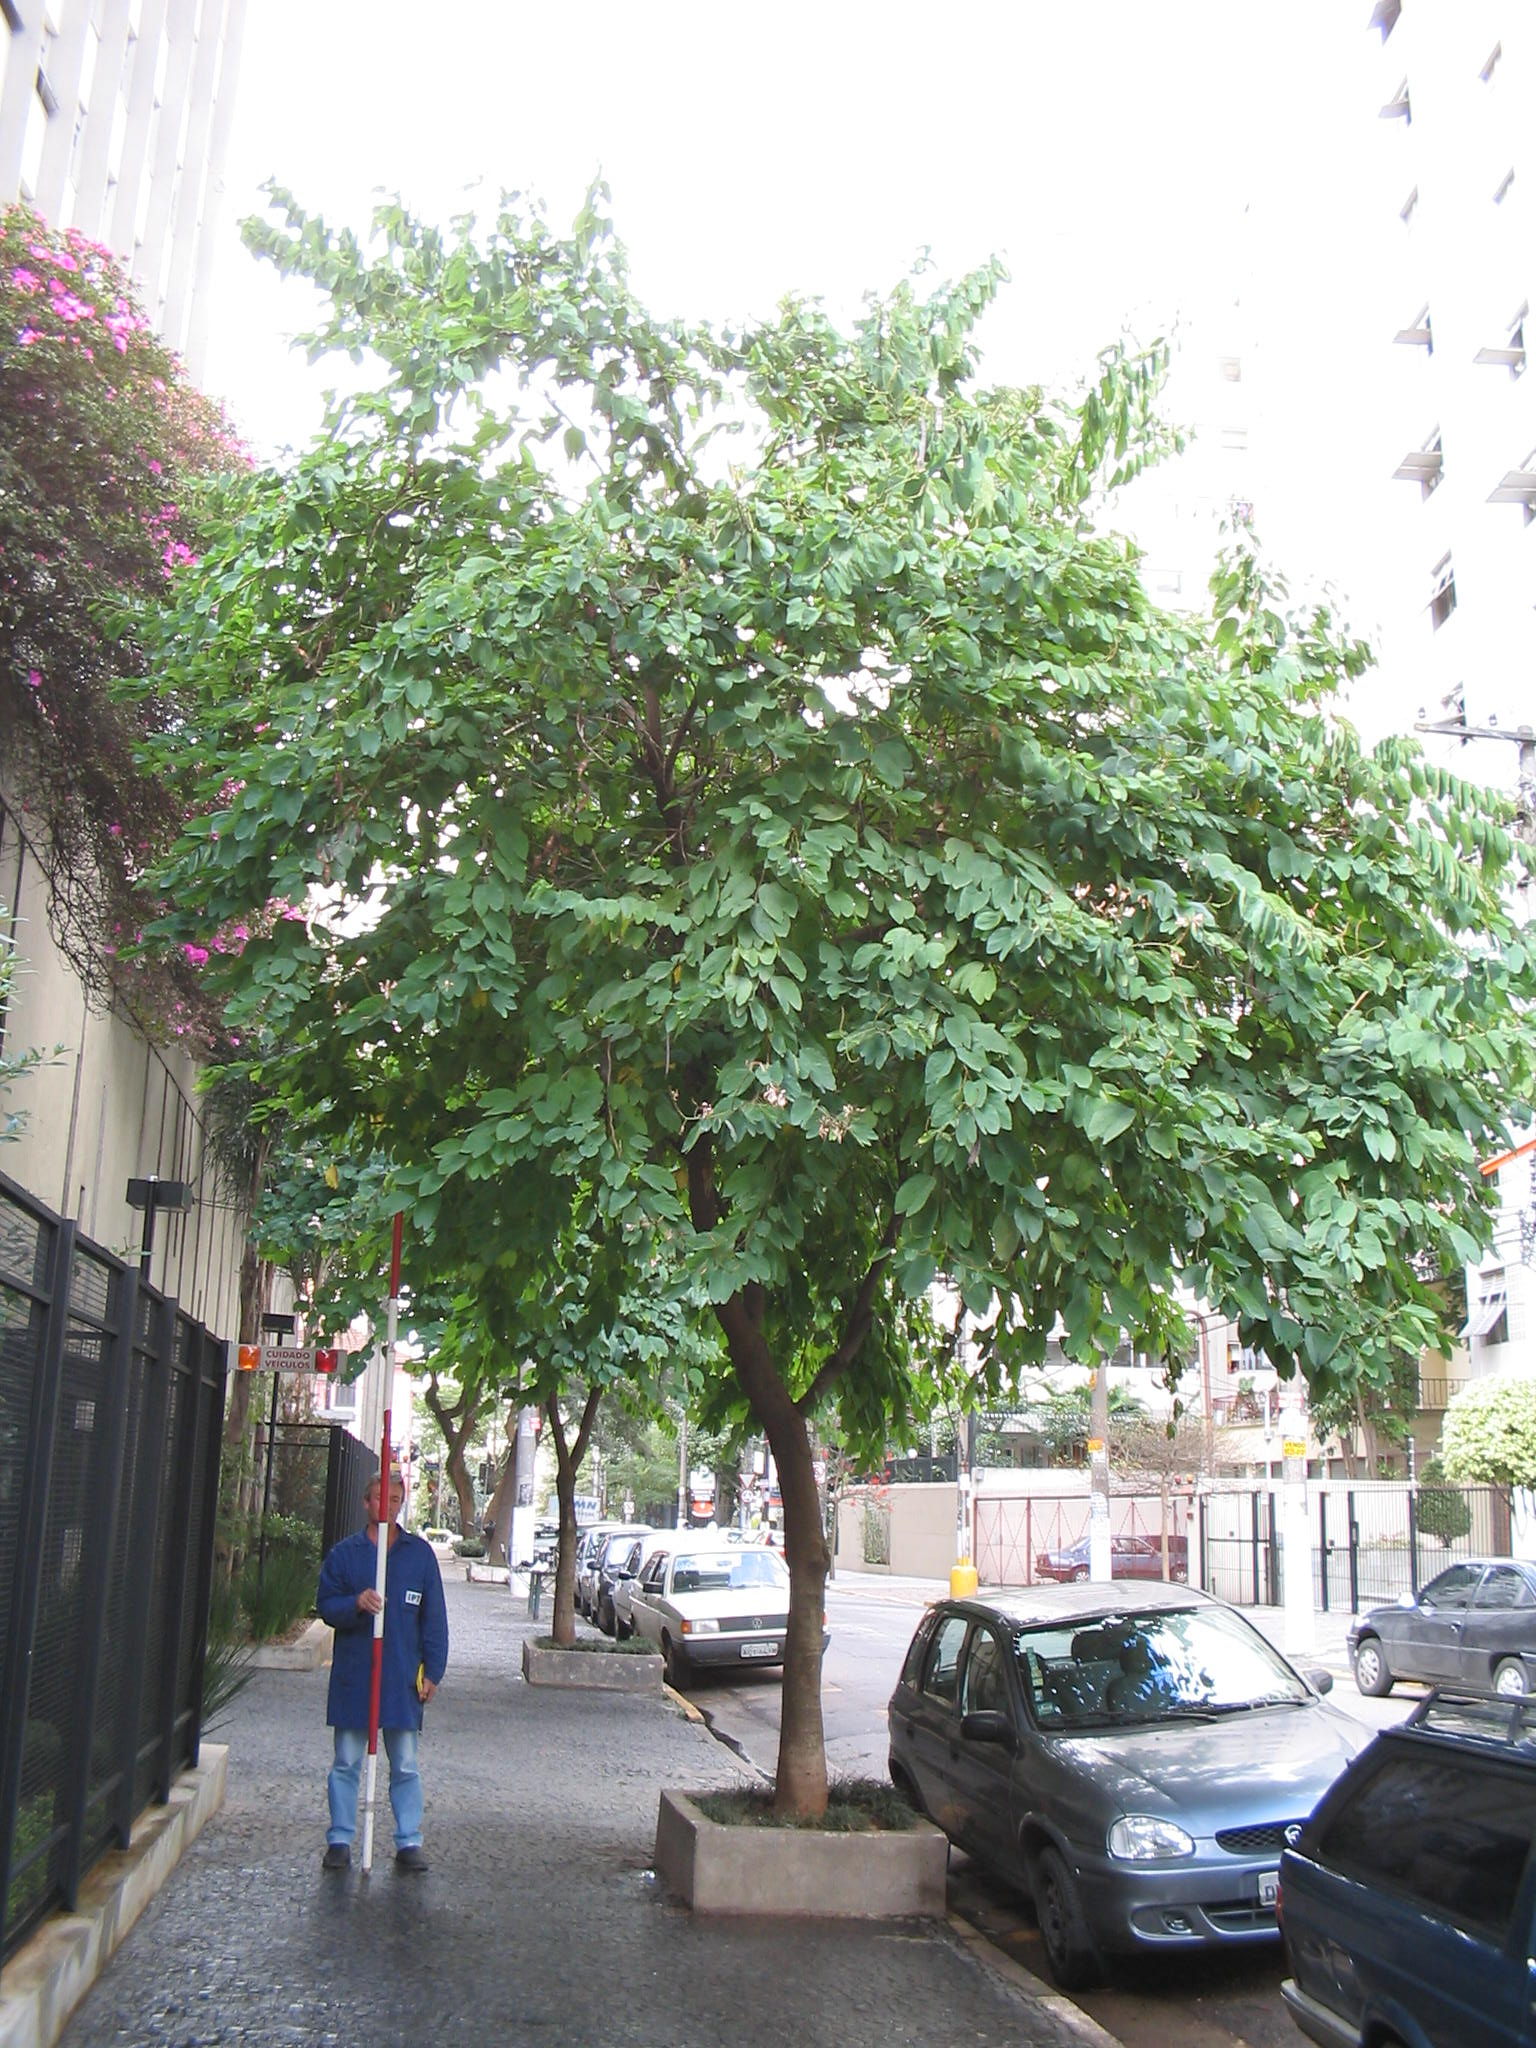crown: (94, 179, 1533, 1432)
stem: (731, 1395, 860, 1825)
stick: (342, 1211, 423, 1869)
tree: (86, 174, 1536, 1825)
